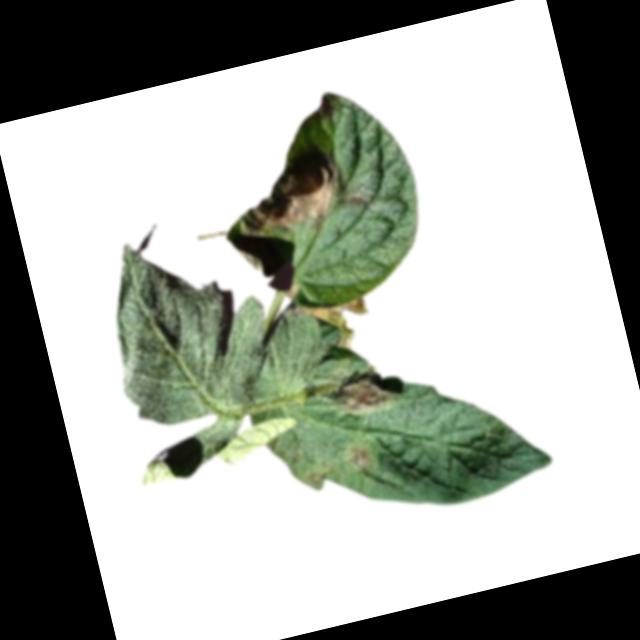Late_blight: (231, 152, 352, 244), (291, 289, 377, 358), (329, 365, 399, 421), (345, 440, 377, 472)
